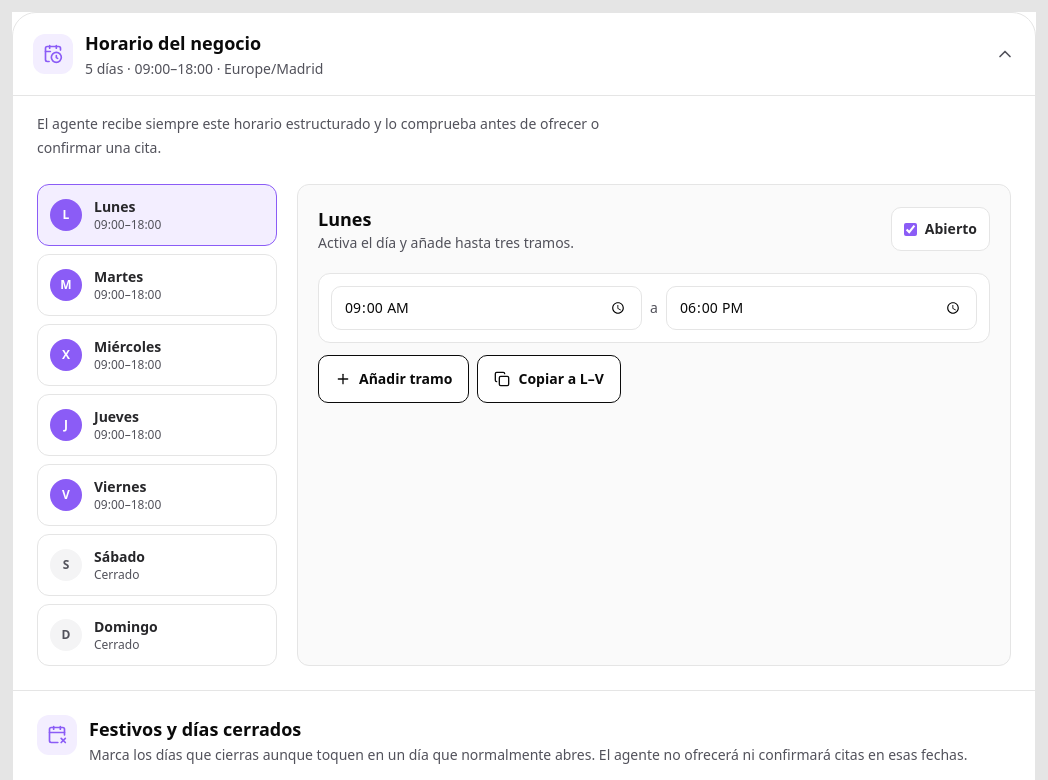
Scenario: BusinessHoursEditor › desactivar un día abierto muestra el aviso de cerrado
The image size is (1048, 780).
Click the checkbox at (910, 229), box [904, 222, 917, 236]
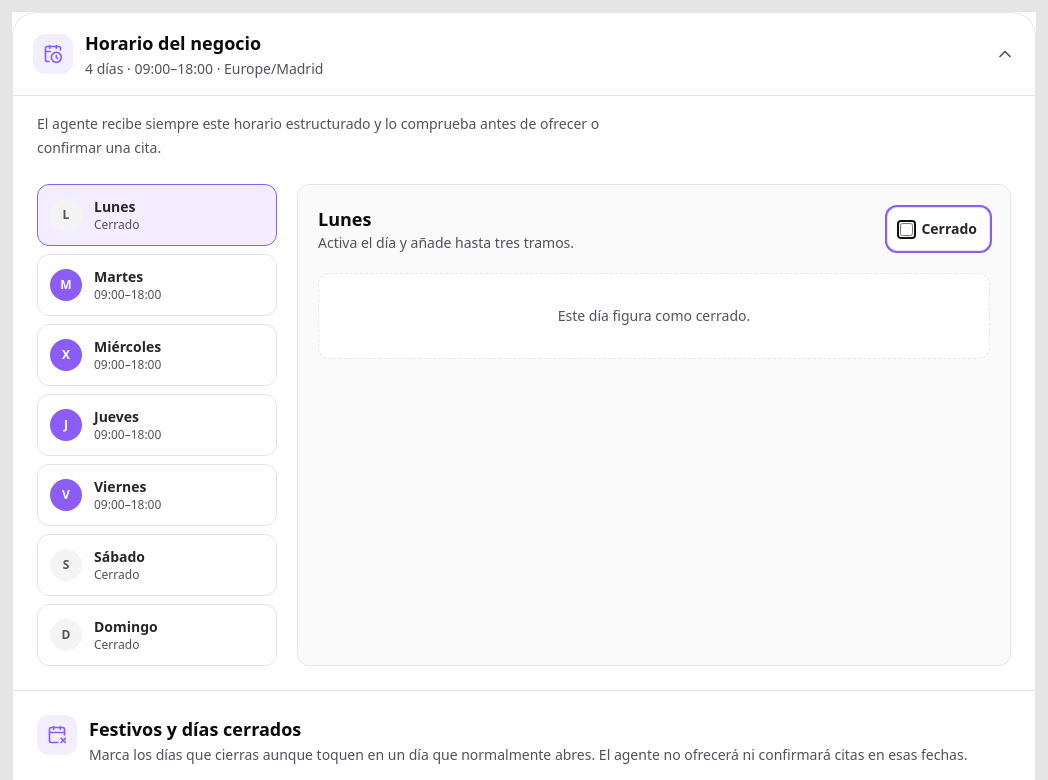
Expected: the text "Este día figura como cerrado." is shown, [318, 273, 990, 359]
